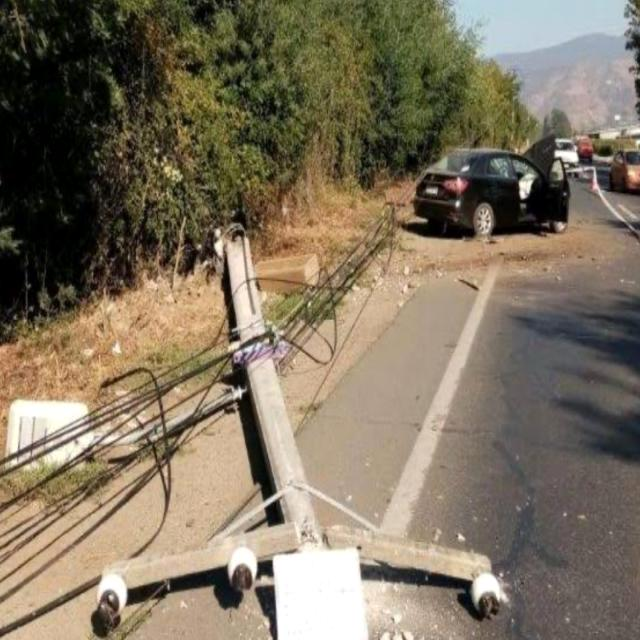Broken Pole: (88, 235, 498, 640)
